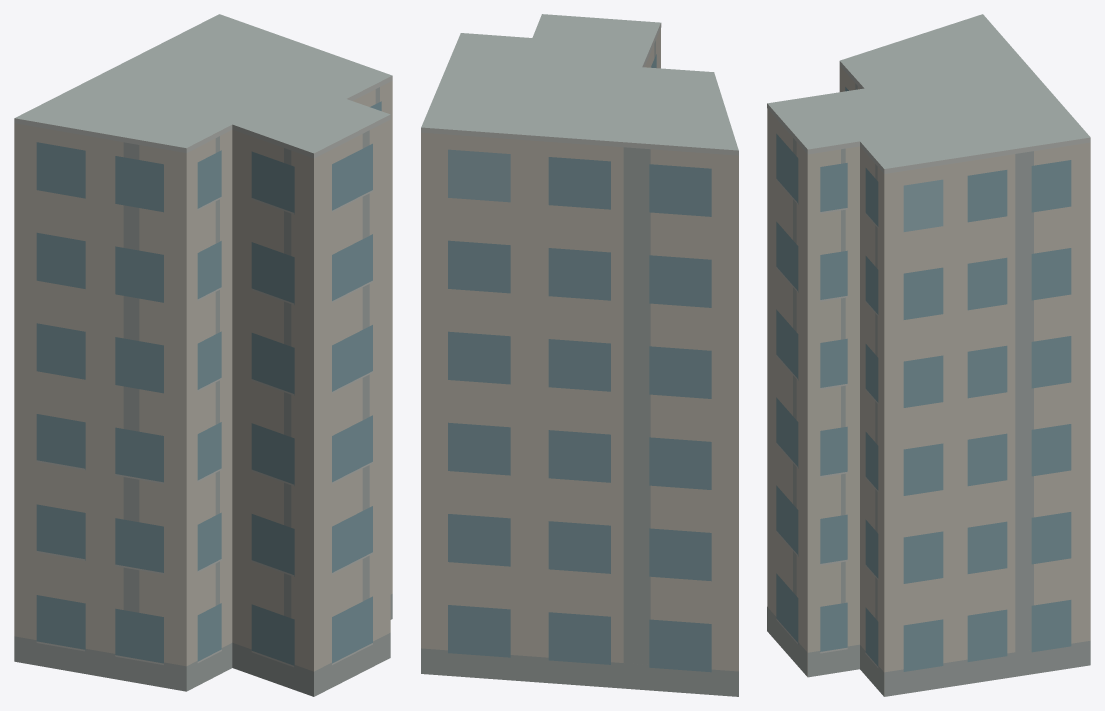
Rendered from survey-upis-32801615.glb.
3 views of the same model, side by side, from view 1: azimuth 30°, elevation 25°; view 2: azimuth 150°, elevation 25°; view 3: azimuth 270°, elevation 25° (orthographic). The views are drawn at different scales.
Parts seen in each view (by area): view 1: survey-upis-32801615.tmp; view 2: survey-upis-32801615.tmp; view 3: survey-upis-32801615.tmp.
Part boxes in pixels (left/top/right/bottom): survey-upis-32801615.tmp: left=14, top=14, right=392, bottom=696; survey-upis-32801615.tmp: left=421, top=14, right=738, bottom=696; survey-upis-32801615.tmp: left=767, top=14, right=1090, bottom=696.
Bounding box in the file's own units: 16.52 × 26.2 × 14.57.
